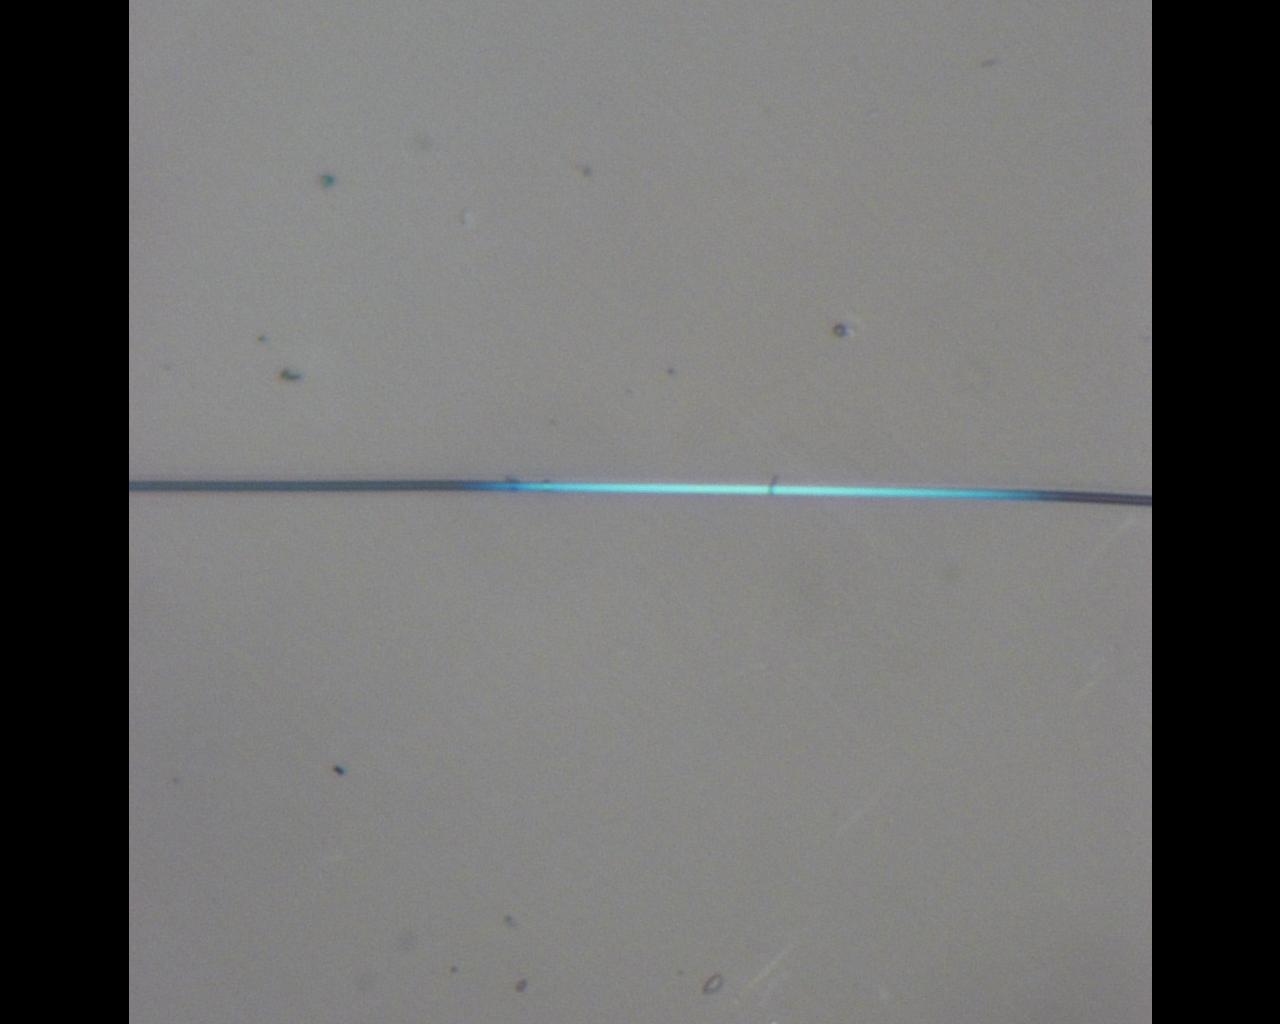fiber: (130, 482, 1152, 508)
